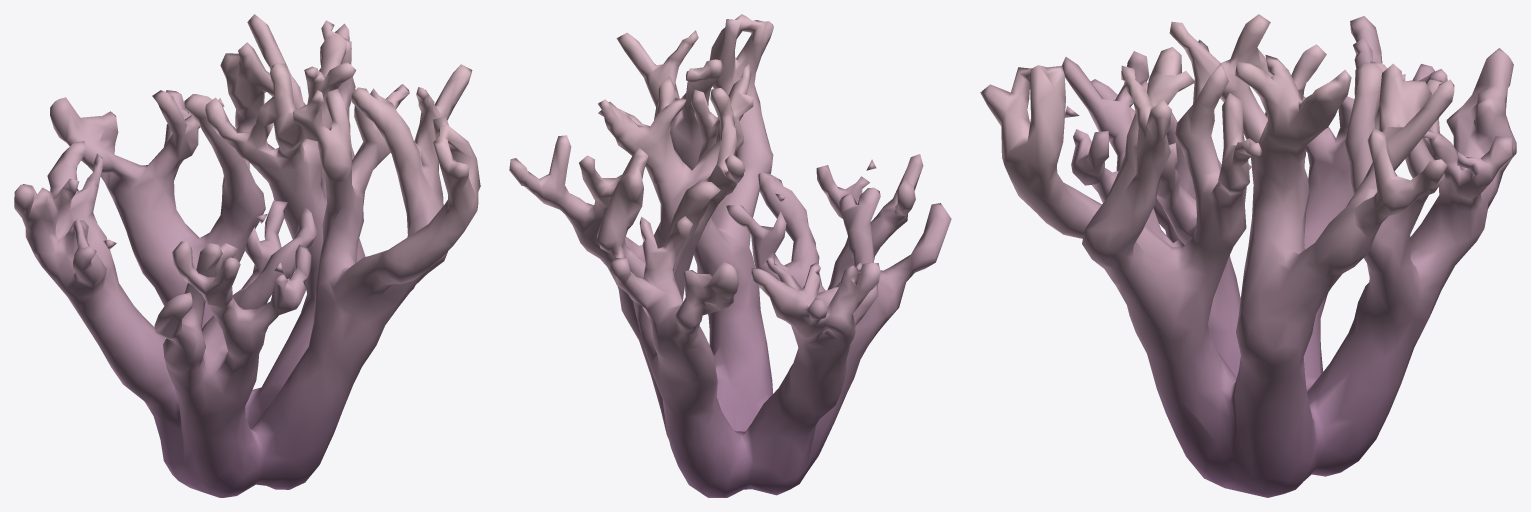
The model's file is staghorn_pink.glb.
3 views of the same model, side by side, from view 1: azimuth 30°, elevation 25°; view 2: azimuth 150°, elevation 25°; view 3: azimuth 270°, elevation 25° (orthographic). The views are drawn at different scales.
Visible parts, largest first — view 1: world; view 2: world; view 3: world.
Boxes of the visible parts, box(x1,y1,x2,y2) form: world: box(14, 14, 480, 497); world: box(509, 14, 951, 497); world: box(980, 14, 1516, 497).
Size of the model in its own units: 1.08 by 1.15 by 1.18.
